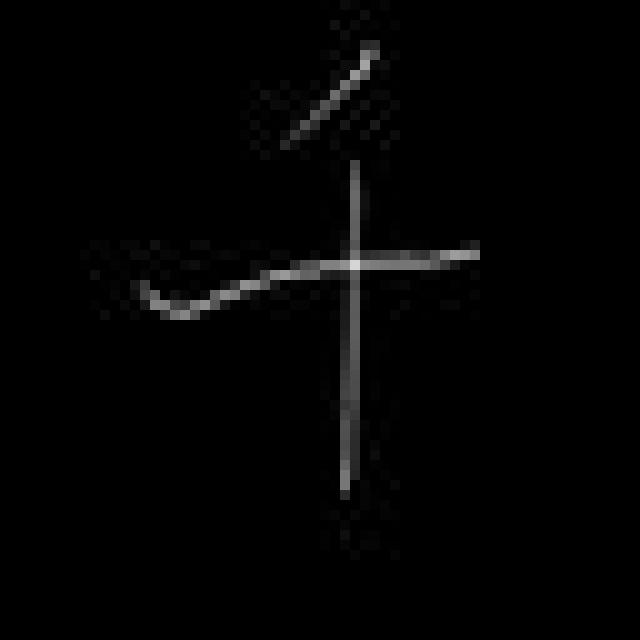1000 -a thousand-: (130, 39, 488, 510)
